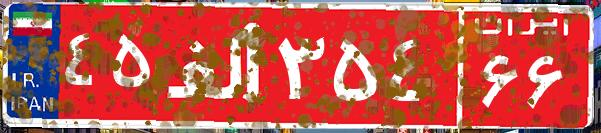3: (273, 28, 330, 110)
4: (385, 28, 445, 110), (57, 26, 110, 107)
5: (330, 28, 385, 110), (110, 28, 158, 105)
6: (475, 38, 525, 113), (525, 38, 570, 115)
الف: (158, 15, 273, 115)
